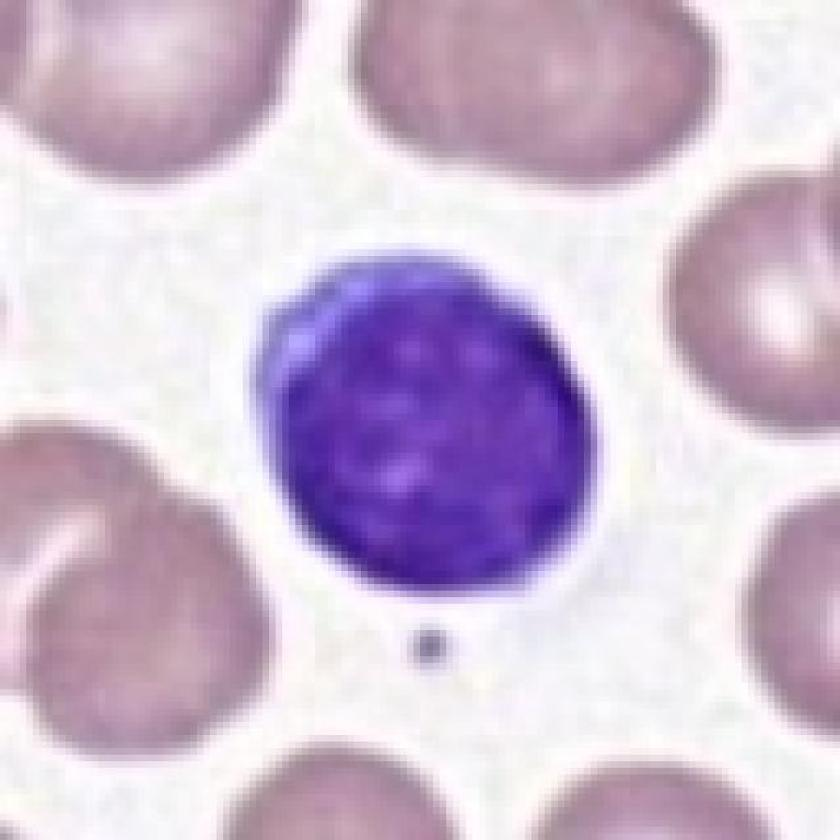lymphocyte: (242, 232, 608, 603)
